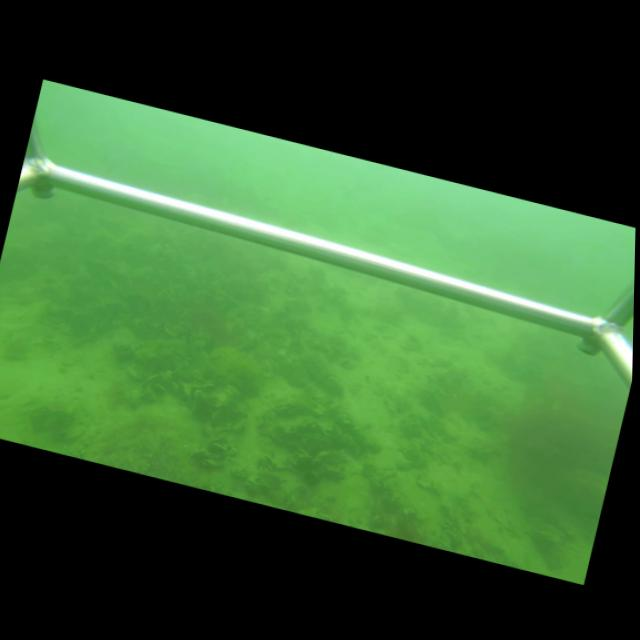Oyster-Indeterminate: (125, 363, 148, 381)
